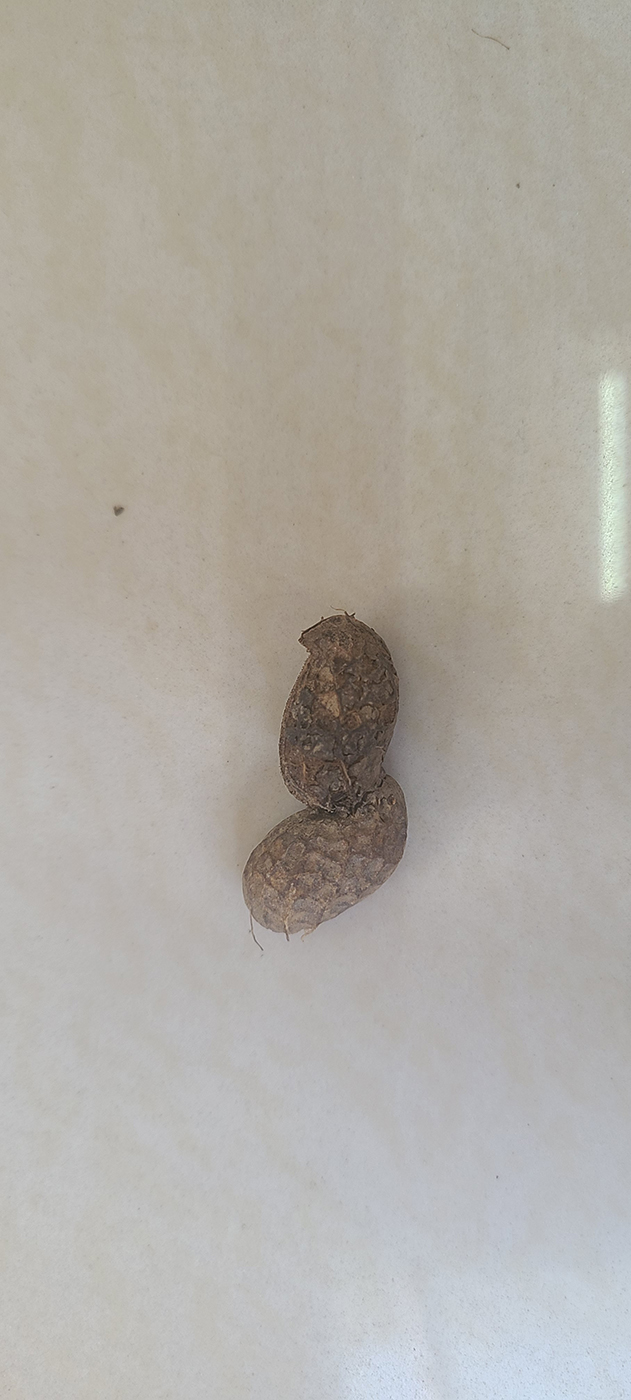l: (241, 613, 410, 934)
